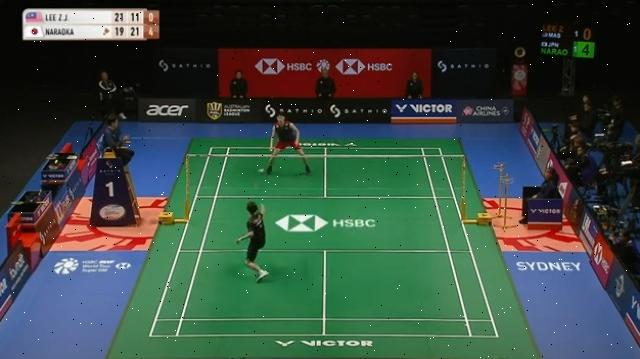Shuttlecock: (256, 166, 266, 176)
